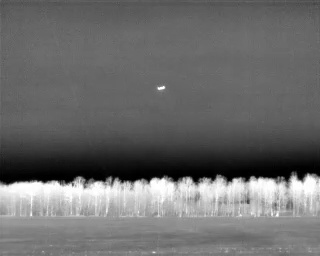DRONE: (154, 81, 169, 95)
